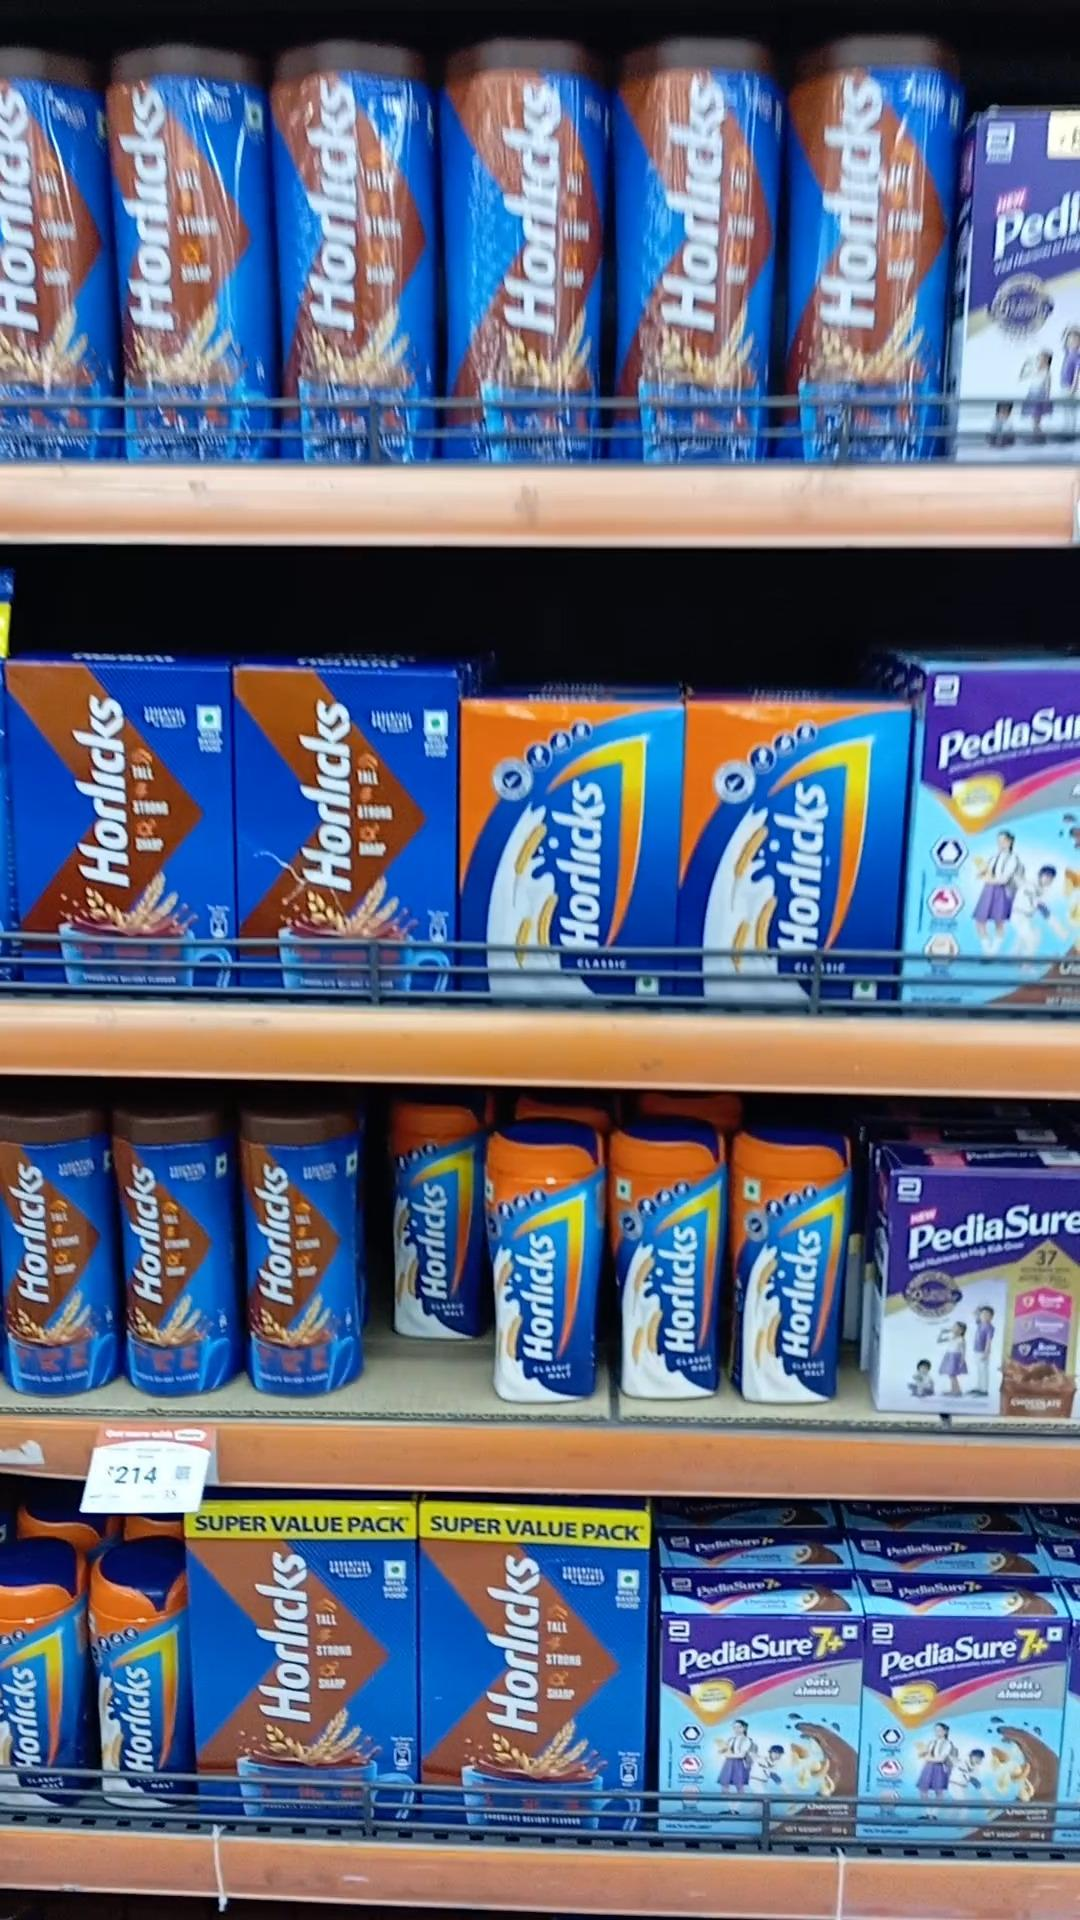HORLICK_CHOCOLATE_1_KG_JAR: (105, 40, 281, 463), (287, 28, 446, 460), (622, 40, 769, 460), (452, 38, 588, 460), (806, 37, 932, 455)
HORLICK_CHOCOLATE_1_KG_PACK: (426, 1499, 650, 1829), (193, 1498, 415, 1821)
HORLICK_CHOCOLATE_500_G_JAR: (245, 1105, 369, 1400), (0, 1105, 127, 1394), (133, 1113, 241, 1391)
HORLICK_CHOCOLATE_500_G_PACK: (18, 657, 237, 998), (252, 662, 456, 993)
HORLICK_CLASSIC_MALT_500_G_JAR: (740, 1131, 845, 1399), (94, 1555, 198, 1813), (620, 1143, 721, 1404), (509, 1131, 595, 1403), (409, 1100, 487, 1335), (13, 1552, 70, 1787)
HORLICK_CLASSIC_MALT_500_G_PACK: (481, 696, 692, 1000), (711, 708, 899, 1017)
PEDIASURE_7_PLUS_CHOCOLATE_400_G_PACK: (876, 1622, 1072, 1862), (674, 1619, 856, 1850)
PEDIASURE_CHOCOLATE_500_G_PACK: (894, 1149, 1080, 1416)
